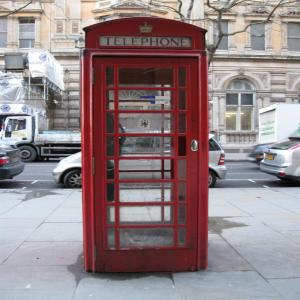Vehicle-registration-plate: (265, 154, 276, 160)
